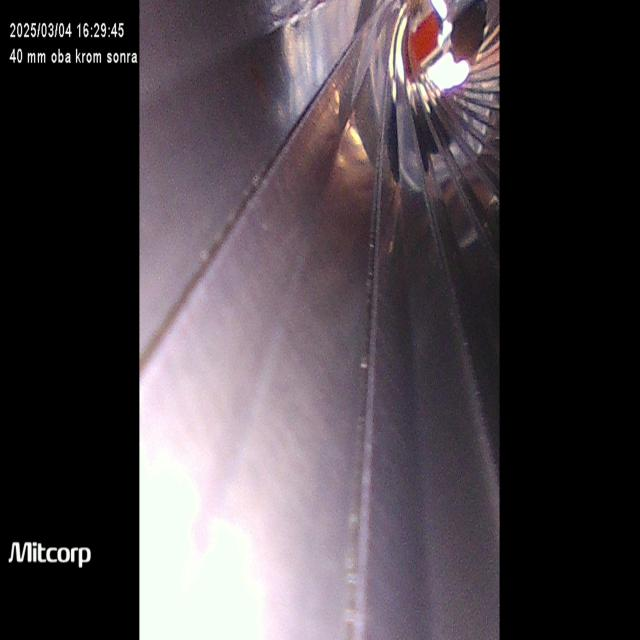hata_8.2: (334, 265, 397, 640)
